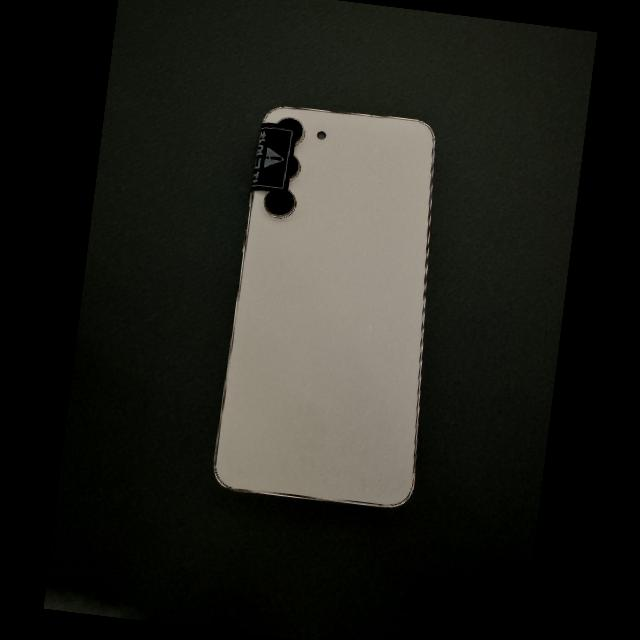lens: (264, 191, 296, 217), (279, 118, 304, 143), (289, 155, 300, 181)
phone: (215, 107, 434, 506)
sticker: (250, 122, 297, 193)
